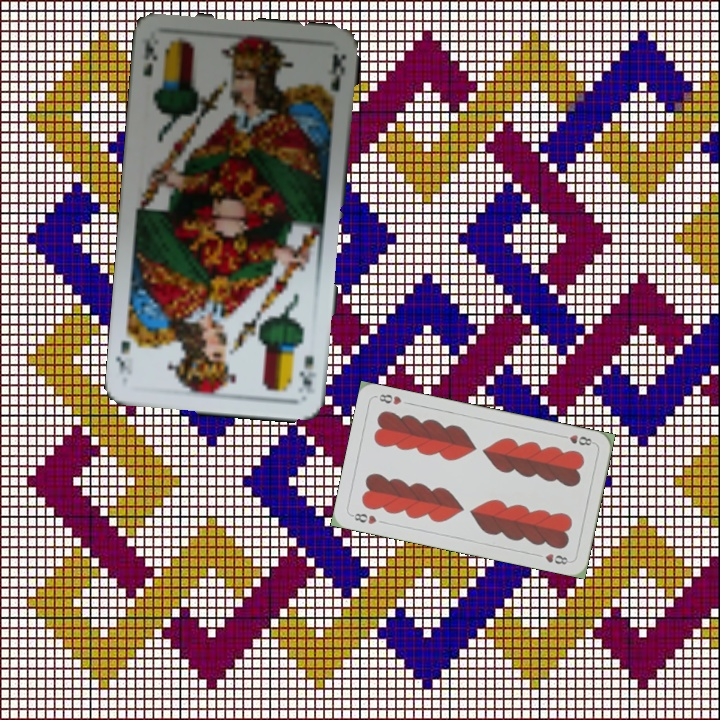EK: (140, 34, 159, 79), (299, 352, 318, 392)
H8: (557, 431, 597, 448), (347, 509, 379, 527)
